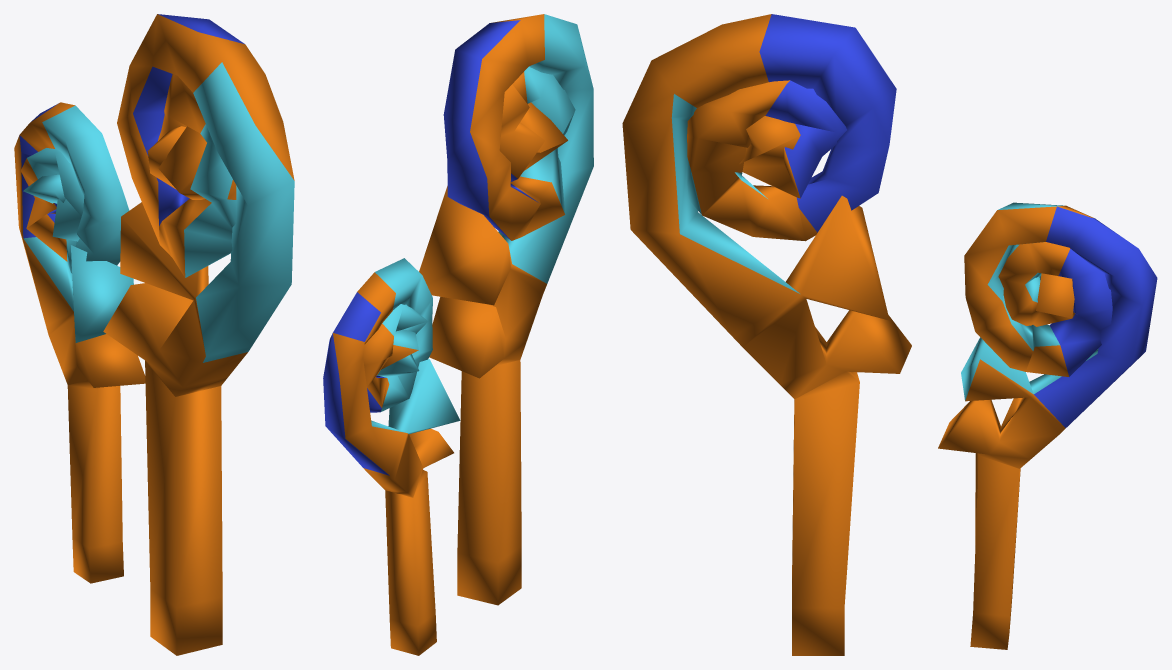
Rendered from tree5_1.glb.
The picture shows the model from 3 angles, left to right: view 1: azimuth 30°, elevation 25°; view 2: azimuth 150°, elevation 25°; view 3: azimuth 270°, elevation 25°; orthographic projection. The views are drawn at different scales.
Visible parts, largest first — view 1: Cube; view 2: Cube; view 3: Cube.
Boxes of the visible parts, left/top/right/bottom form: Cube: left=14, top=14, right=294, bottom=655; Cube: left=323, top=14, right=593, bottom=655; Cube: left=622, top=14, right=1157, bottom=655.
Size of the model in its own units: 6.52 by 34.99 by 27.14.
